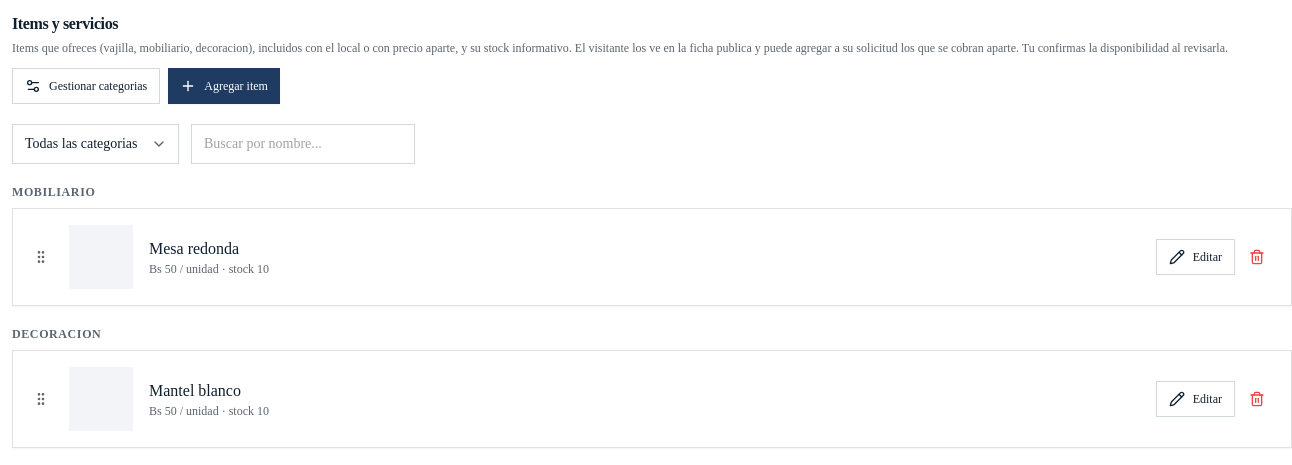
it: VenueRentalItemsTab › filtra por categoria y por nombre
Expected: the text "Mesa redonda" is shown, left=149, top=237, right=239, bottom=261
Step 1. Select "Decoracion" in the dropdown showing "Todas las categorias" → (96, 144), box left=12, top=124, right=179, bottom=164
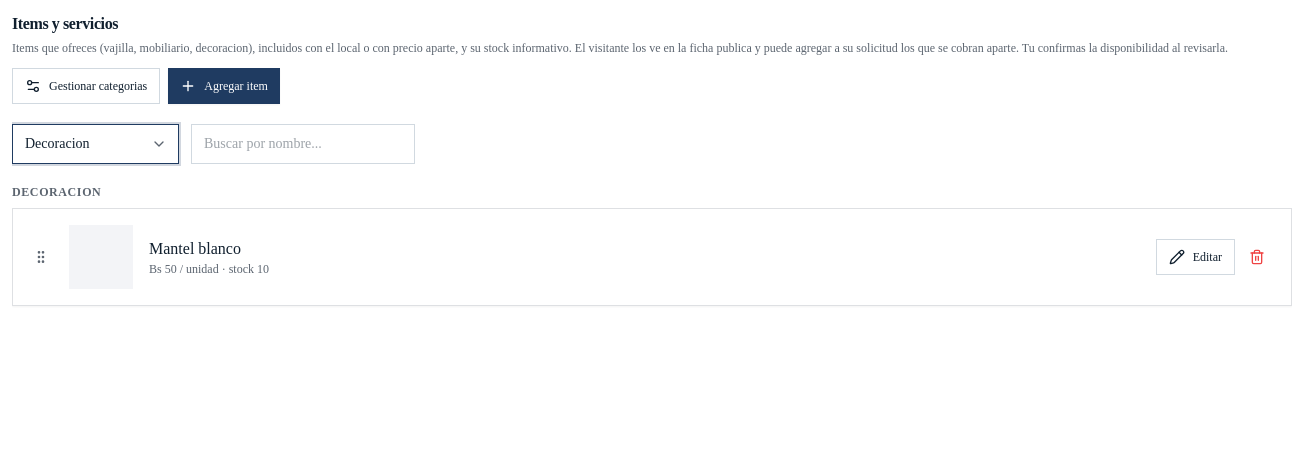
Expected: the text "Mantel blanco" is shown, left=149, top=237, right=241, bottom=261
Result: the text "Mesa redonda" is gone
Step 2. Select "Todas las categorias" in the dropdown showing "Todas las categorias" → (96, 144), box left=12, top=124, right=179, bottom=164
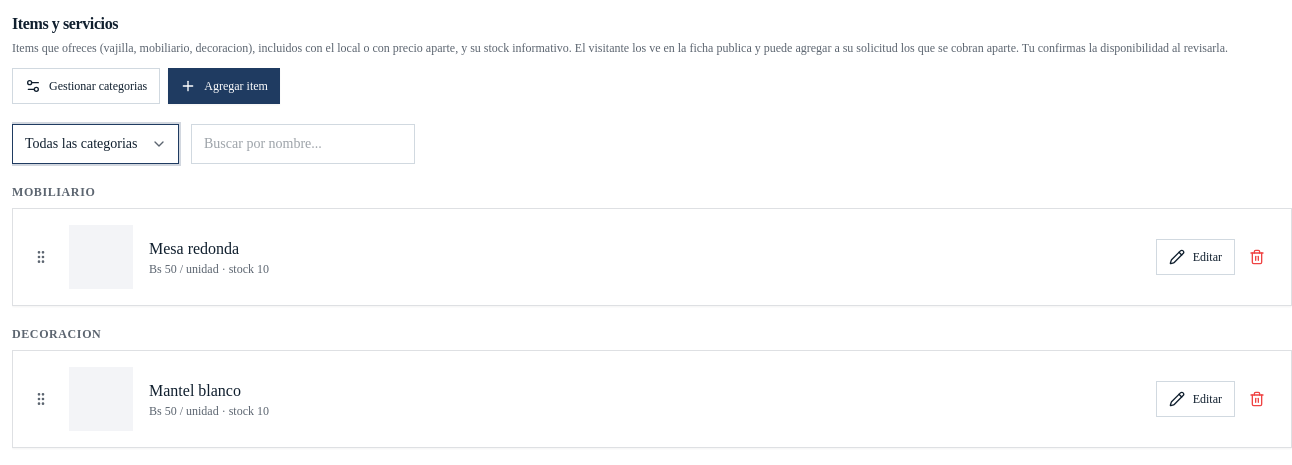
Step 3. Type "mesa" into the field with placeholder "Buscar por nombre..." → (303, 144), box left=191, top=124, right=415, bottom=164
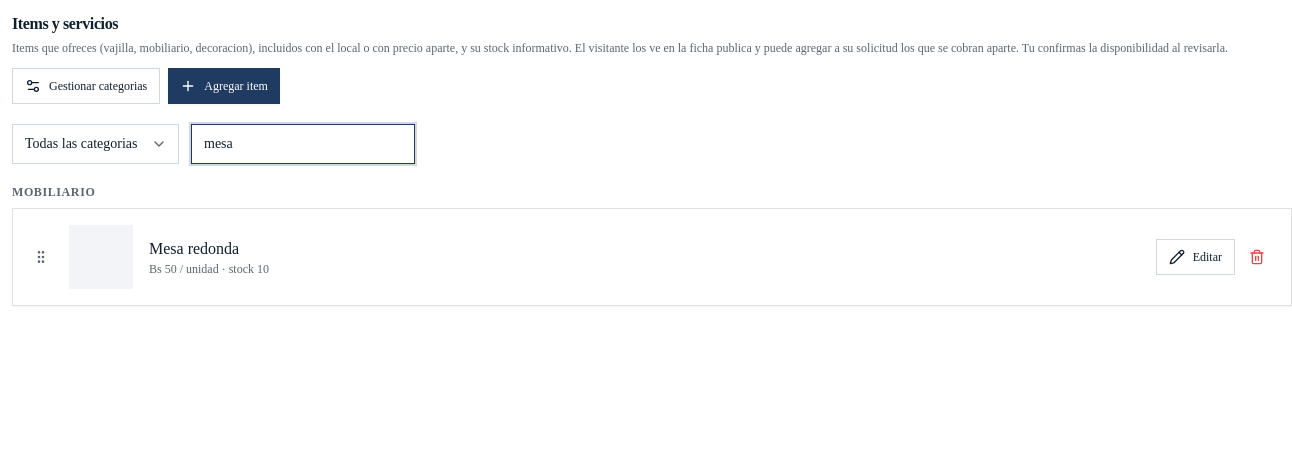
Result: the text "Mesa redonda" is shown at left=149, top=237, right=239, bottom=261
Result: the text "Mantel blanco" is gone
